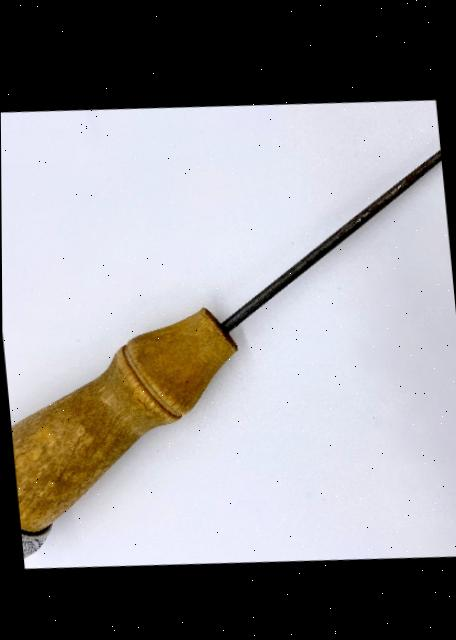ice pick: (0, 73, 456, 581)
